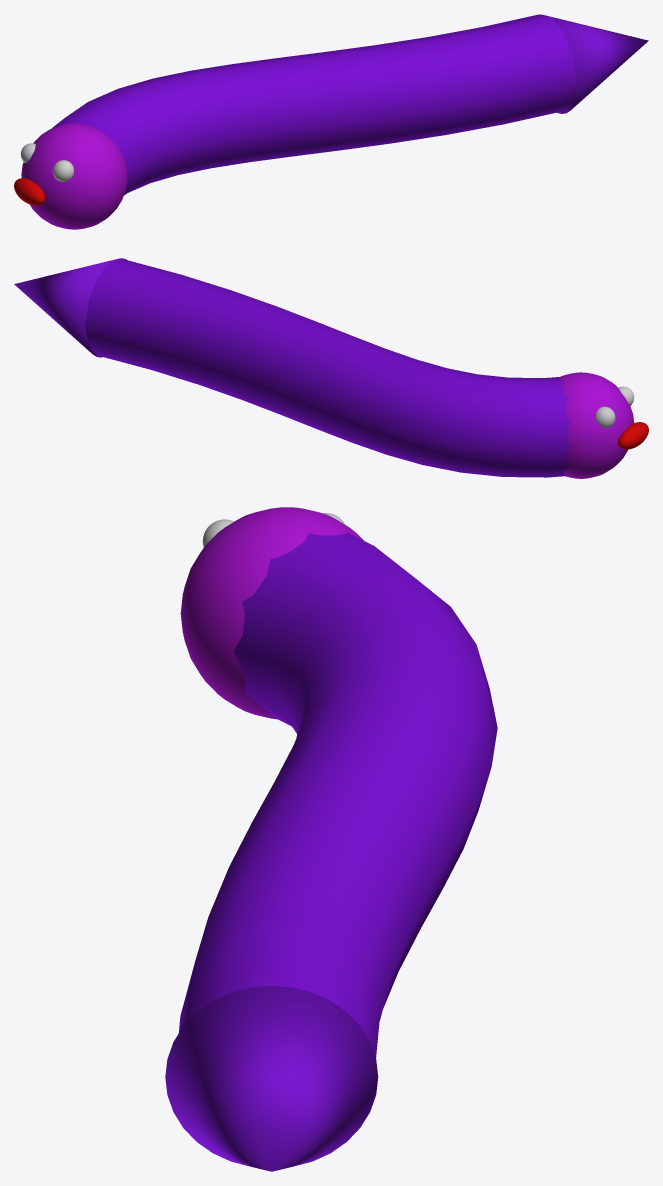
File: SnakePurple.obj
3 views of the same model, one above another, from view 1: azimuth 30°, elevation 25°; view 2: azimuth 150°, elevation 25°; view 3: azimuth 270°, elevation 25° (orthographic). The views are drawn at different scales.
Visible parts, largest first — view 1: BézierCurve, Sphere, Cone, Sphere.003, Sphere.001; view 2: BézierCurve, Sphere, Cone, Sphere.003, Sphere.002; view 3: BézierCurve, Cone, Sphere.
Part boxes in pixels (x1,y1,x2,y2): BézierCurve: [52, 14, 575, 195]; Sphere: [21, 123, 127, 229]; Cone: [541, 14, 648, 113]; Sphere.003: [14, 178, 45, 205]; Sphere.001: [52, 160, 73, 181]; BézierCurve: [85, 259, 570, 477]; Sphere: [558, 372, 633, 478]; Cone: [14, 258, 126, 357]; Sphere.003: [618, 422, 648, 449]; Sphere.002: [596, 406, 615, 427]; BézierCurve: [179, 532, 497, 1057]; Cone: [165, 985, 378, 1171]; Sphere: [180, 507, 363, 719].
Bounding box in the file's own units: 2.62 × 0.384 × 0.5994.
